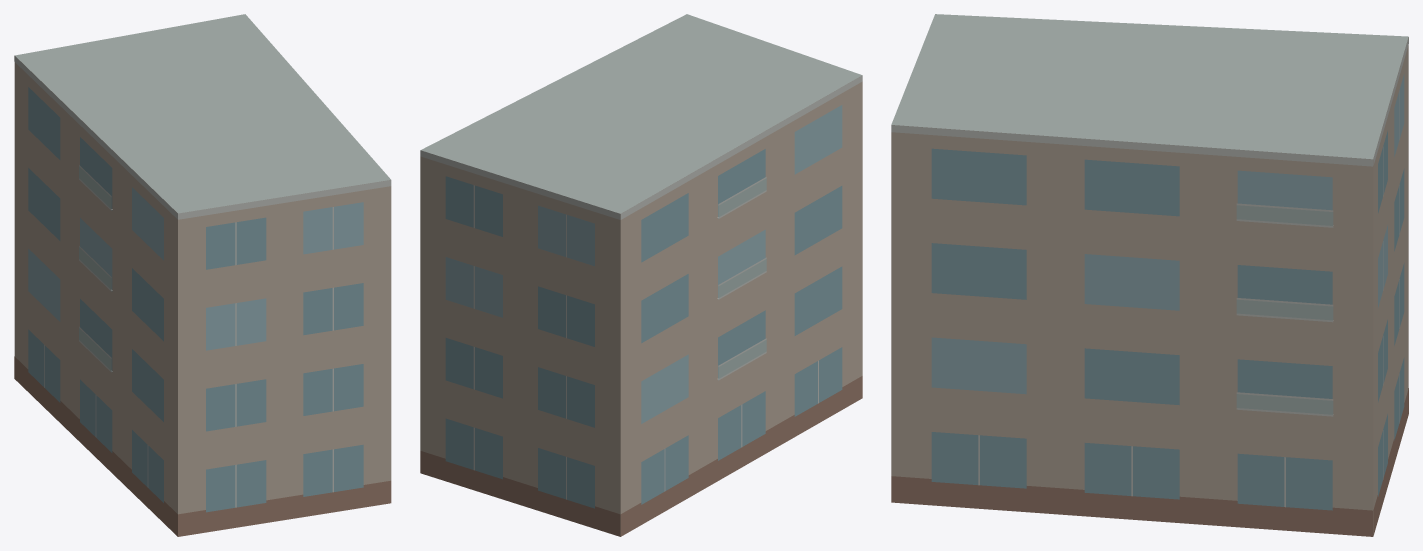
Rendered from survey-upis-32659139.glb.
3 views of the same model, side by side, from view 1: azimuth 30°, elevation 25°; view 2: azimuth 150°, elevation 25°; view 3: azimuth 270°, elevation 25° (orthographic). The views are drawn at different scales.
Parts seen in each view (by area): view 1: survey-upis-32659139.tmp; view 2: survey-upis-32659139.tmp; view 3: survey-upis-32659139.tmp.
Part boxes in pixels (x1,y1,x2,y2): survey-upis-32659139.tmp: (14, 14, 391, 536); survey-upis-32659139.tmp: (420, 14, 862, 536); survey-upis-32659139.tmp: (891, 14, 1408, 536).
Bounding box in the file's own units: 10.41 × 12.6 × 15.66.
